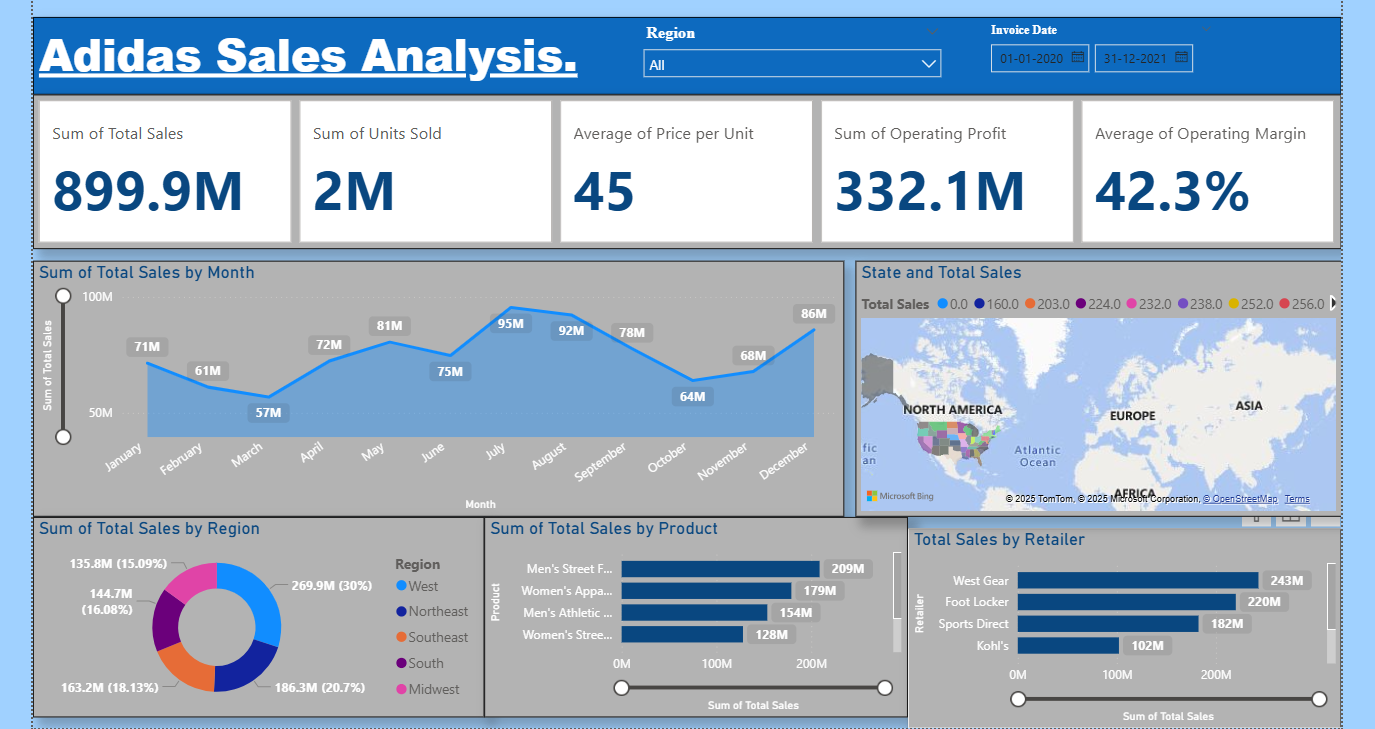

Layout of this report page (visuals, bound fields, positions):
{"tool":"powerbi","page":{"name":"Page 1","canvas":[1280,720],"ordinal":0},"visuals":[{"type":"shape","box":[0,24.5,1280.3,86.8],"z":0},{"type":"textbox","box":[0,24.5,1280.3,75.8],"z":1000},{"type":"cardVisual","fields":{"Data":["Sum(Data Sales Adidas.Total Sales)","Sum(Data Sales Adidas.Units Sold)","Avg(Data Sales Adidas.Price per Unit)","Sum(Data Sales Adidas.Operating Profit)","Avg(Data Sales Adidas.Operating Margin)"]},"box":[0,100,1280,151.1],"z":2000},{"type":"areaChart","fields":{"Category":["Data Sales Adidas.Invoice Date.Variation.Date Hierarchy.Month"],"Y":["Sum(Data Sales Adidas.Total Sales)"]},"box":[0,262.9,793.6,250.7],"z":3000},{"type":"donutChart","fields":{"Category":["Data Sales Adidas.Region"],"Y":["Sum(Data Sales Adidas.Total Sales)"]},"box":[0,513.6,441.4,195.7],"z":4000},{"type":"clusteredBarChart","fields":{"Category":["Data Sales Adidas.Product"],"Y":["Sum(Data Sales Adidas.Total Sales)"]},"box":[441.4,513.6,414.5,195.7],"z":5000},{"type":"clusteredBarChart","title":"Total Sales by Retailer","fields":{"Y":["Sum(Data Sales Adidas.Total Sales)"],"Category":["Data Sales Adidas.Retailer"]},"box":[856,524.6,424.3,195.7],"z":6000},{"type":"slicer","fields":{"Values":["Data Sales Adidas.Region"]},"box":[587,25.7,311.8,62.4],"z":7000},{"type":"slicer","fields":{"Values":["Data Sales Adidas.Invoice Date"]},"box":[924.5,25.7,240.9,74.6],"z":8000},{"type":"filledMap","fields":{"Category":["Data Sales Adidas.State"],"Series":["Data Sales Adidas.Total Sales"]},"box":[804.6,262.9,475.7,250.7],"z":9000}]}

Visuals, with their boxes in screenshot pixels (x1, y1, x2, y2):
shape: left=54, top=14, right=1335, bottom=101
textbox: left=54, top=14, right=1335, bottom=90
cardVisual - Sum(Data Sales Adidas.Total Sales) x Sum(Data Sales Adidas.Units Sold): left=54, top=89, right=1334, bottom=240
areaChart - Data Sales Adidas.Invoice Date.Variation.Date Hierarchy.Month x Sum(Data Sales Adidas.Total Sales): left=54, top=252, right=848, bottom=503
donutChart - Data Sales Adidas.Region x Sum(Data Sales Adidas.Total Sales): left=54, top=503, right=495, bottom=699
clusteredBarChart - Data Sales Adidas.Product x Sum(Data Sales Adidas.Total Sales): left=495, top=503, right=910, bottom=699
"Total Sales by Retailer" clusteredBarChart: left=910, top=514, right=1335, bottom=710
slicer - Data Sales Adidas.Region: left=641, top=15, right=953, bottom=77
slicer - Data Sales Adidas.Invoice Date: left=979, top=15, right=1220, bottom=90
filledMap - Data Sales Adidas.State x Data Sales Adidas.Total Sales: left=859, top=252, right=1335, bottom=503
